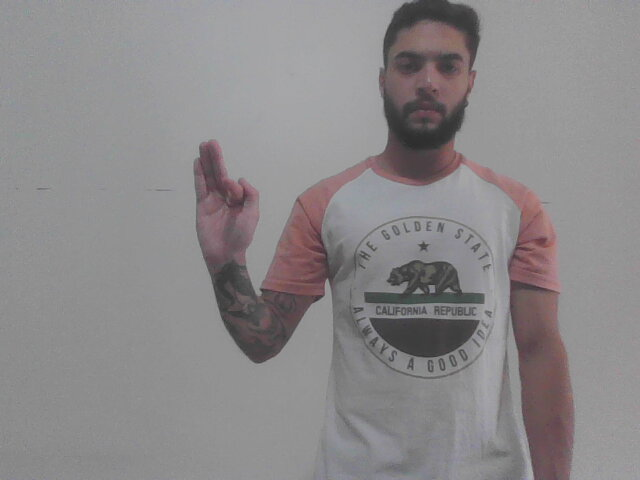f: (181, 134, 264, 265)
